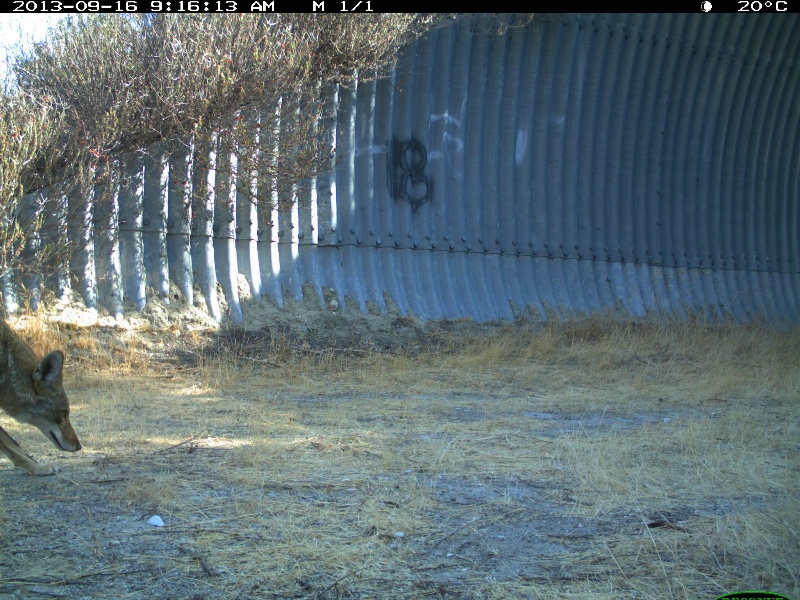coyote: (1, 303, 86, 477)
